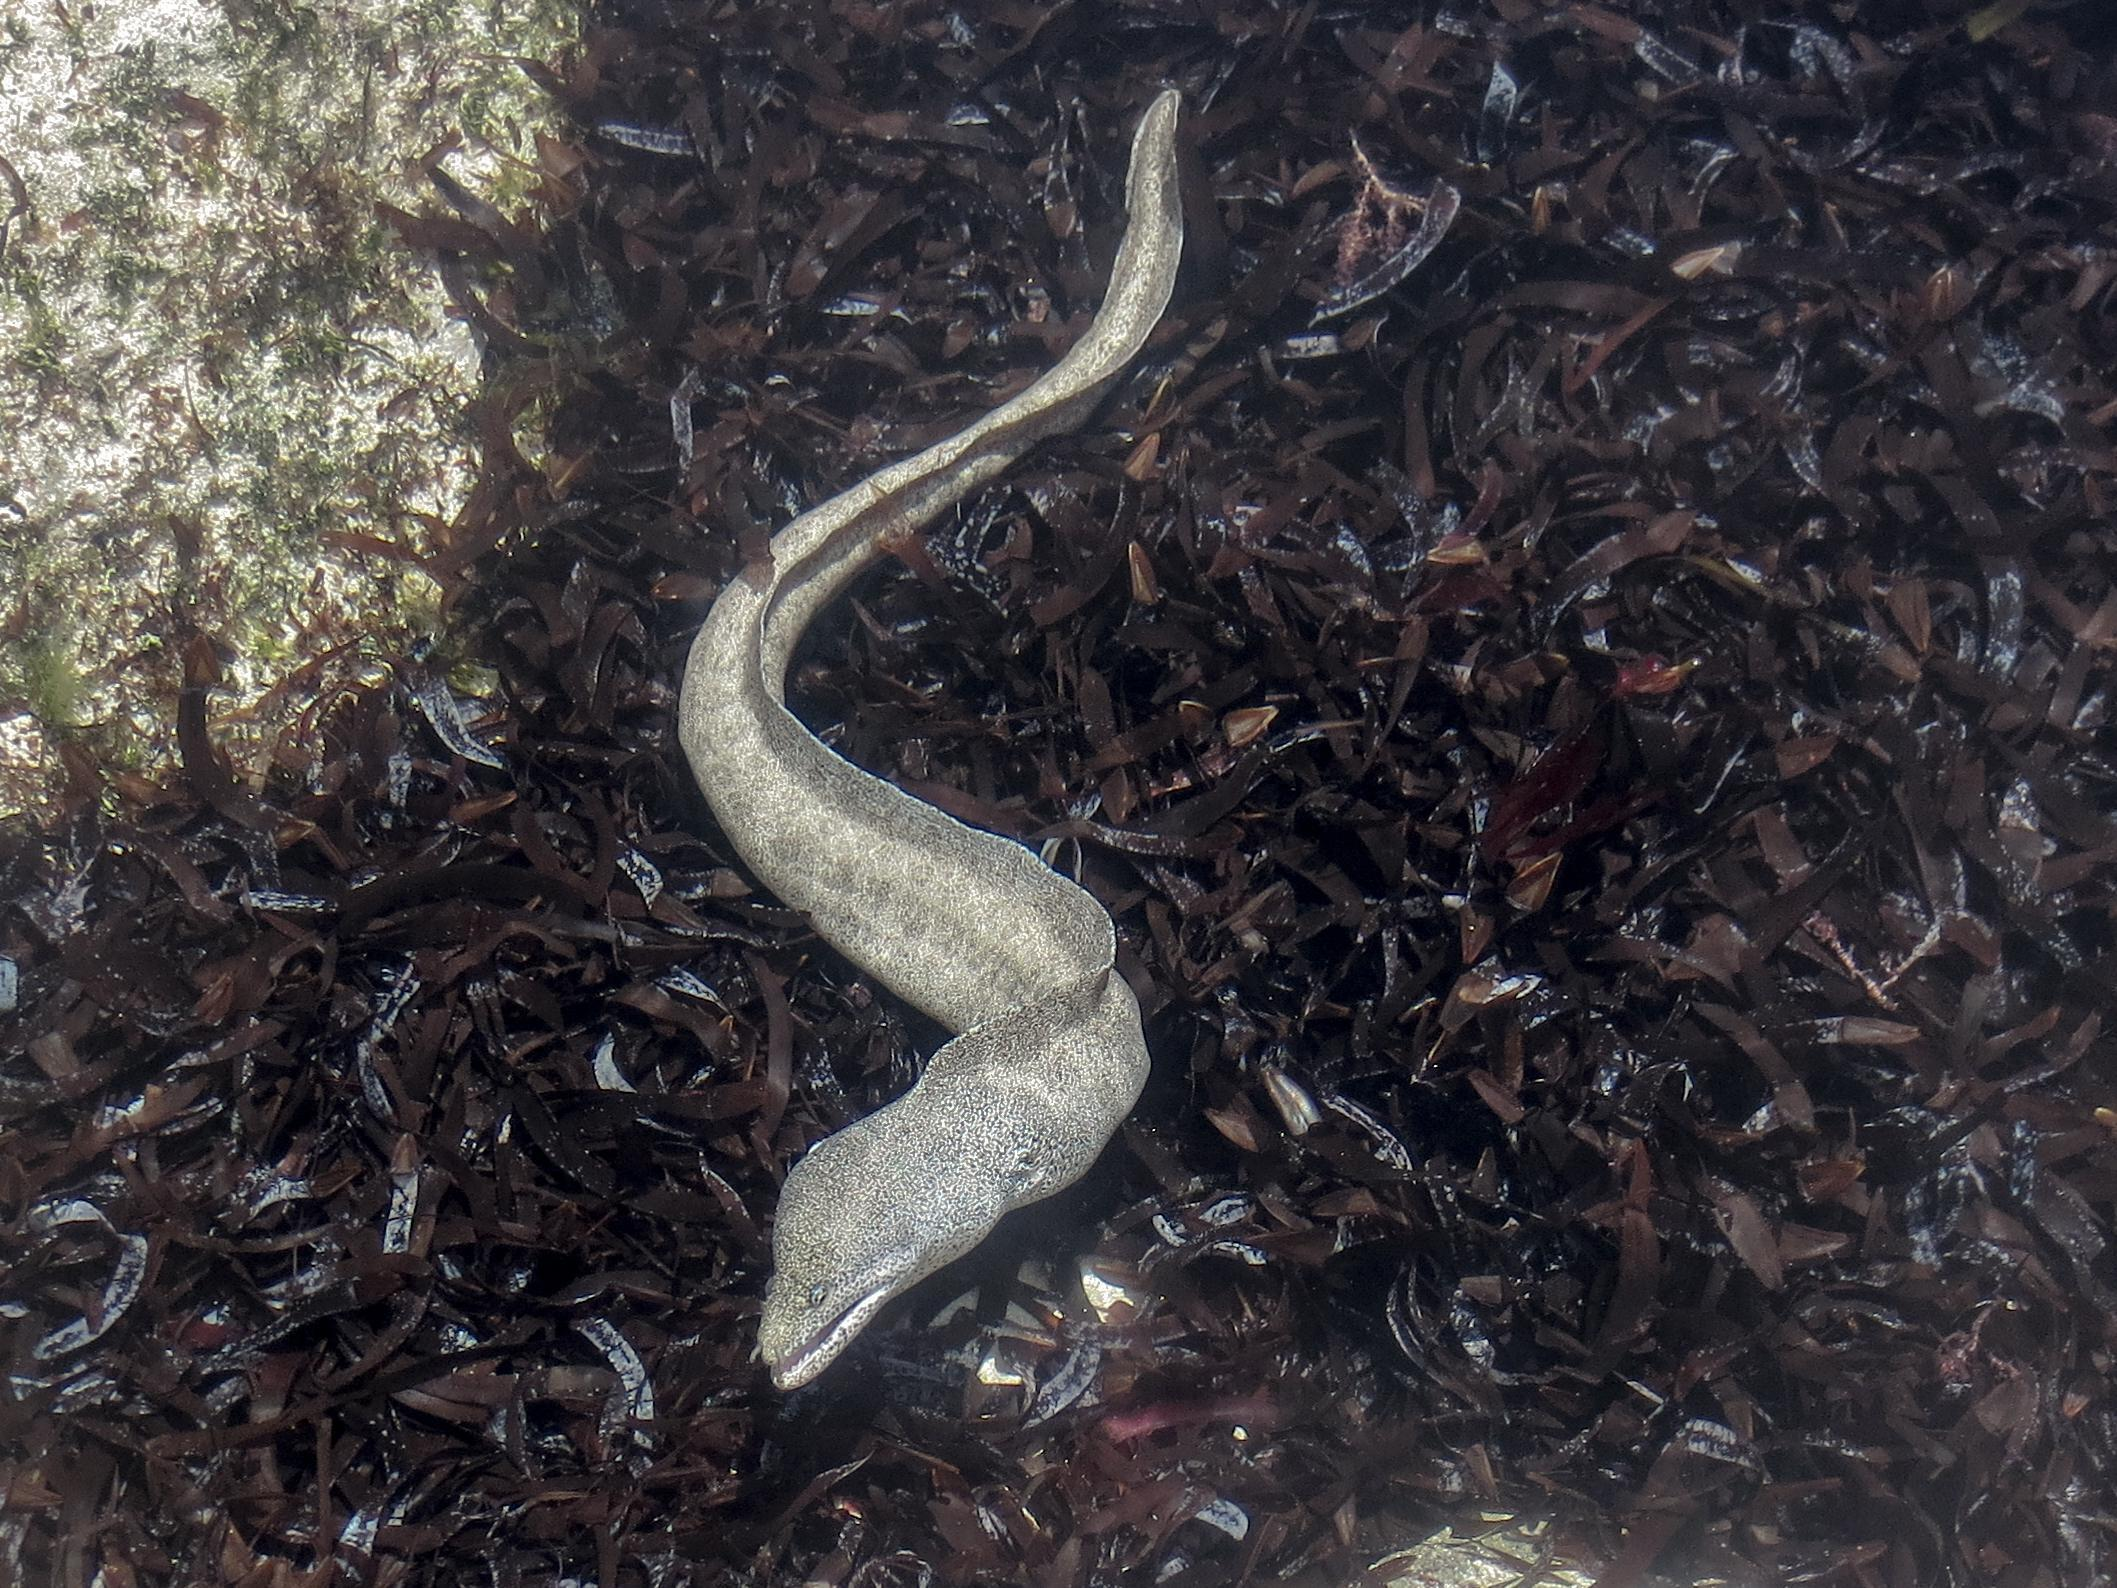Fish: (654, 83, 1243, 1401)
